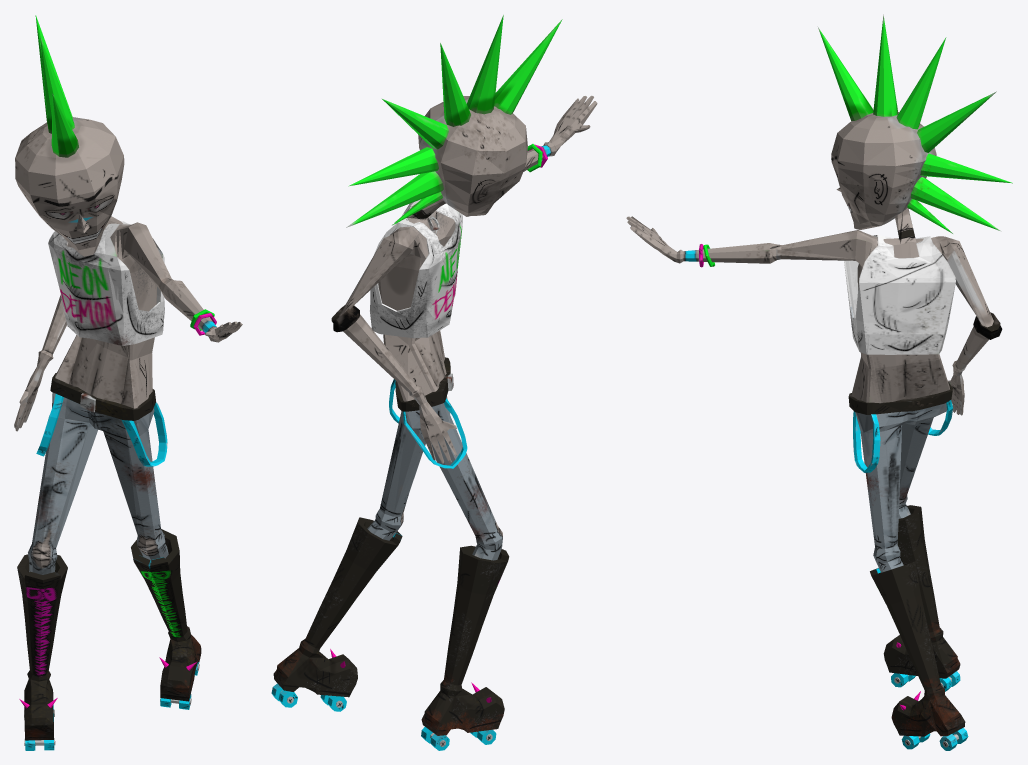
Rendered from punkAnimation_000018.obj.
The picture shows the model from 3 angles, left to right: view 1: azimuth 30°, elevation 25°; view 2: azimuth 150°, elevation 25°; view 3: azimuth 270°, elevation 25°; orthographic projection. The views are drawn at different scales.
Visible parts, largest first — view 1: Cube.004_Cube.003; view 2: Cube.004_Cube.003; view 3: Cube.004_Cube.003.
Boxes of the visible parts, x1,y1,x2,y2 form: Cube.004_Cube.003: (14,15,242,750); Cube.004_Cube.003: (271,15,597,750); Cube.004_Cube.003: (626,14,1012,750).
Size of the model in its own units: 2.34 by 7.35 by 3.88.
